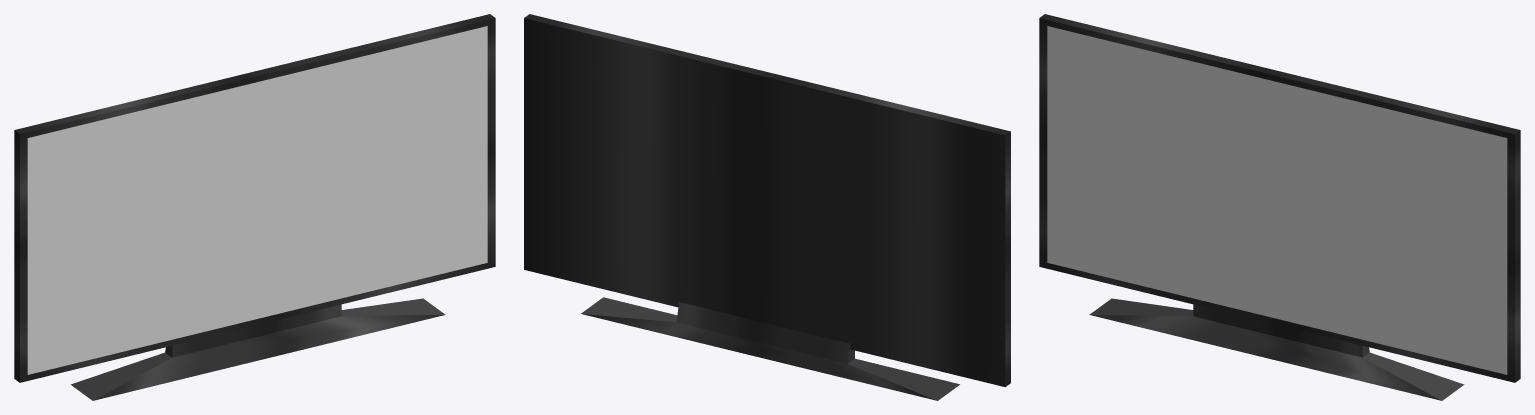
3 views of the same model, side by side, from view 1: azimuth 30°, elevation 25°; view 2: azimuth 150°, elevation 25°; view 3: azimuth 330°, elevation 25° (orthographic).
Parts seen in each view (by area): view 1: TV_002; view 2: TV_002; view 3: TV_002.
Part boxes in pixels (<box>): TV_002: <box>14,14,495,400</box>; TV_002: <box>524,14,1010,400</box>; TV_002: <box>1039,14,1520,400</box>.
Bounding box in the file's own units: 300 × 165 × 24.5.
